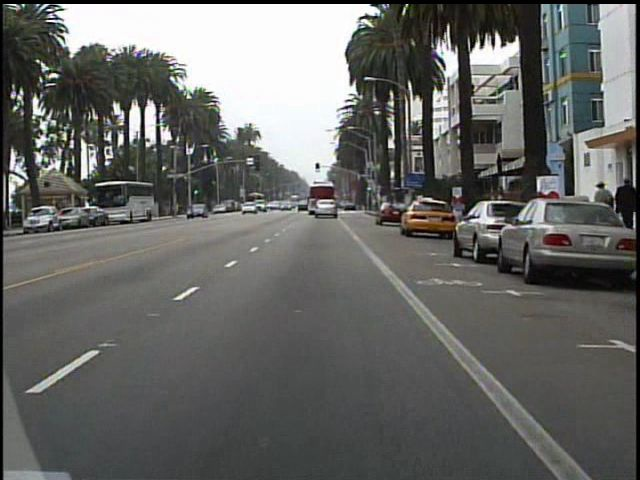person: (609, 173, 638, 240), (588, 176, 614, 241)
